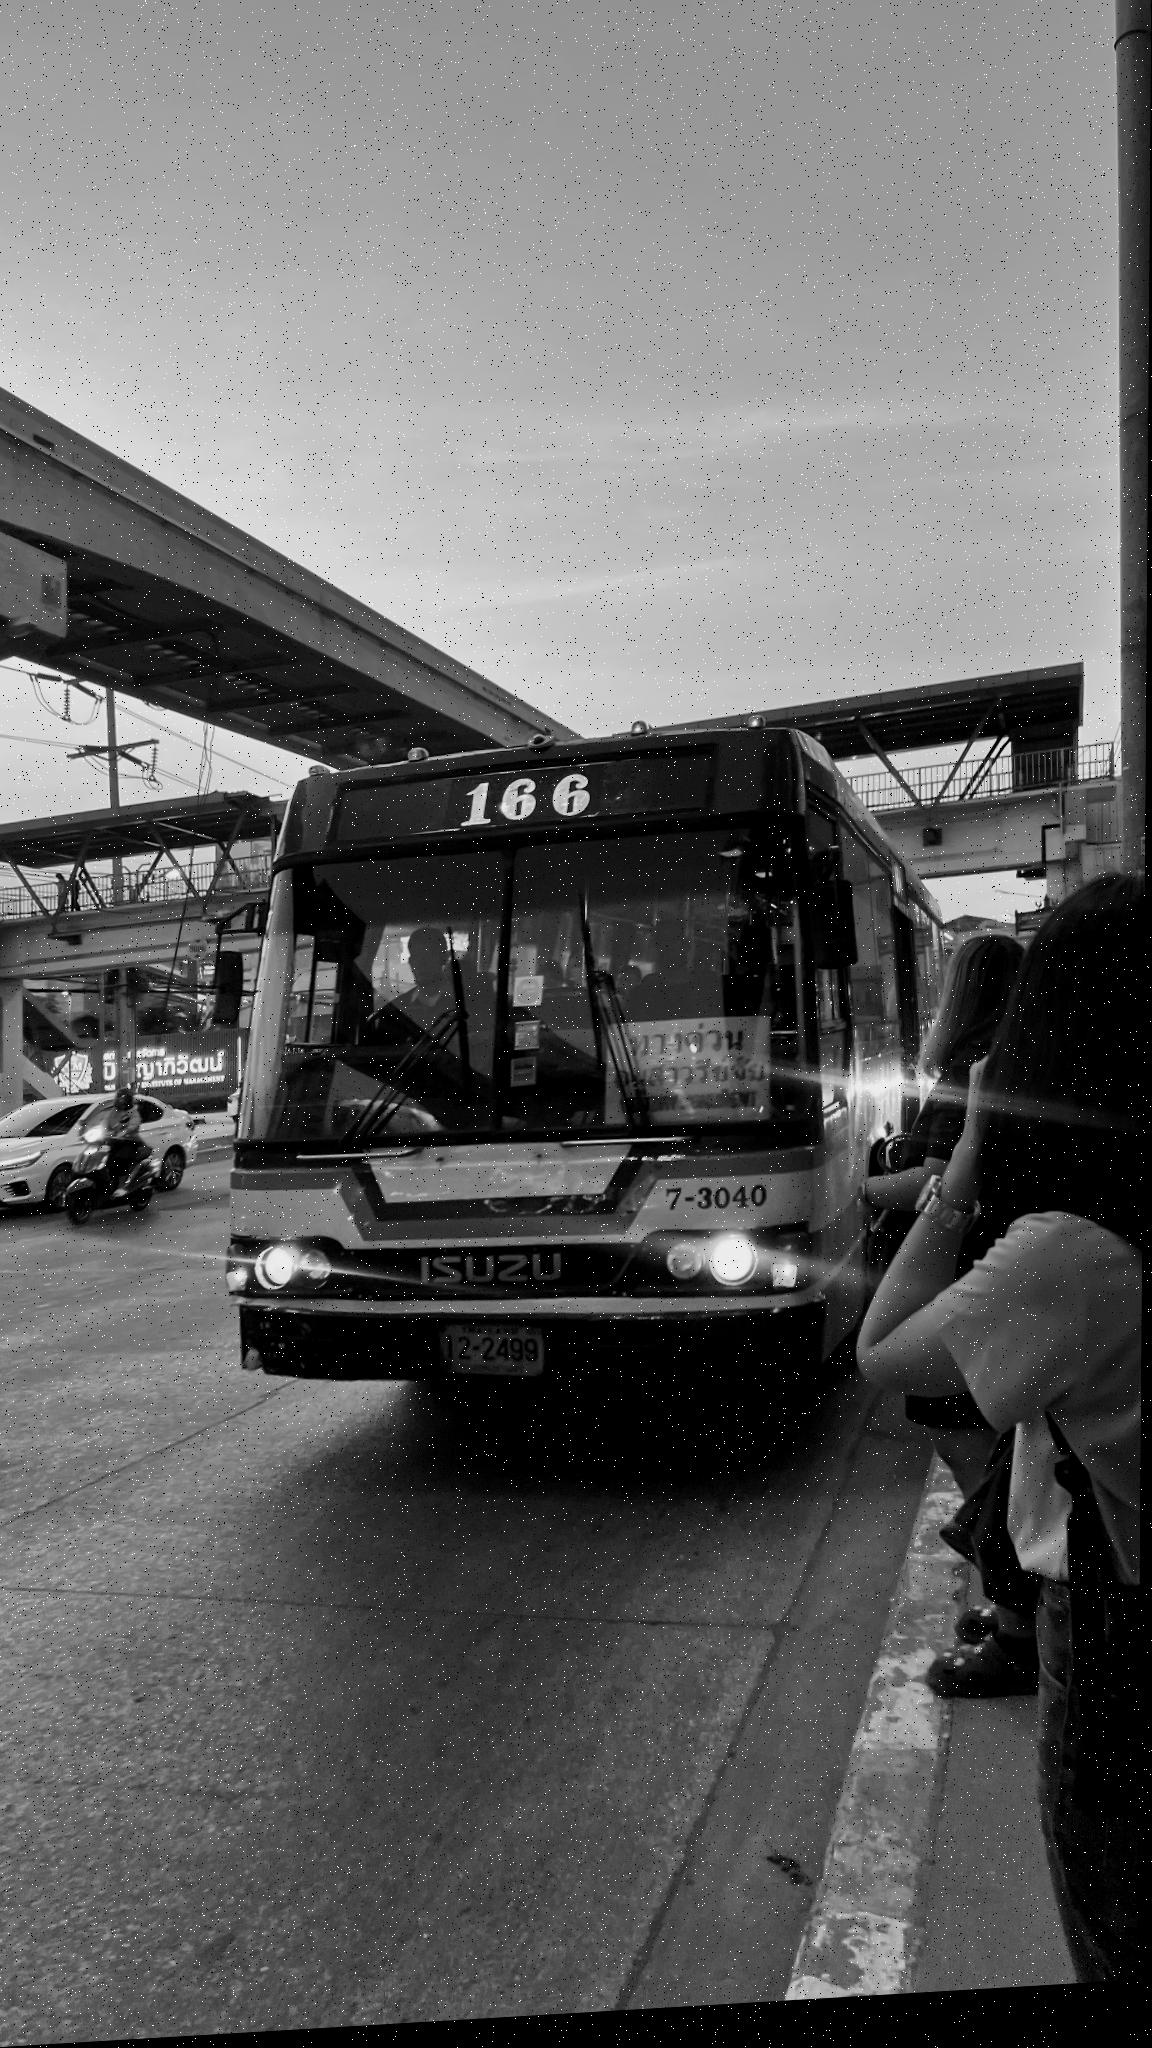BMTA-bus: (224, 731, 941, 1423)
Bus Line Number: (452, 769, 609, 841)
Bus Side Number: (658, 1184, 778, 1228)
Destination Sign: (606, 1025, 771, 1129)
